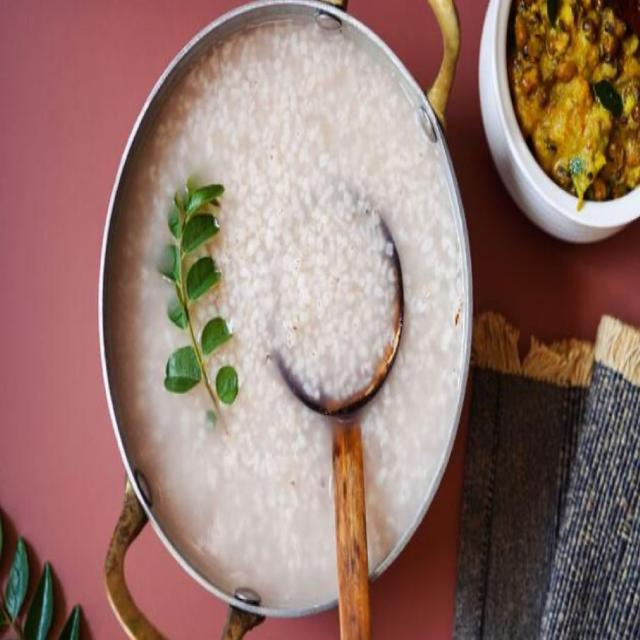PORRIDGE: (119, 24, 467, 610)
SUNDAL: (515, 2, 639, 201)
